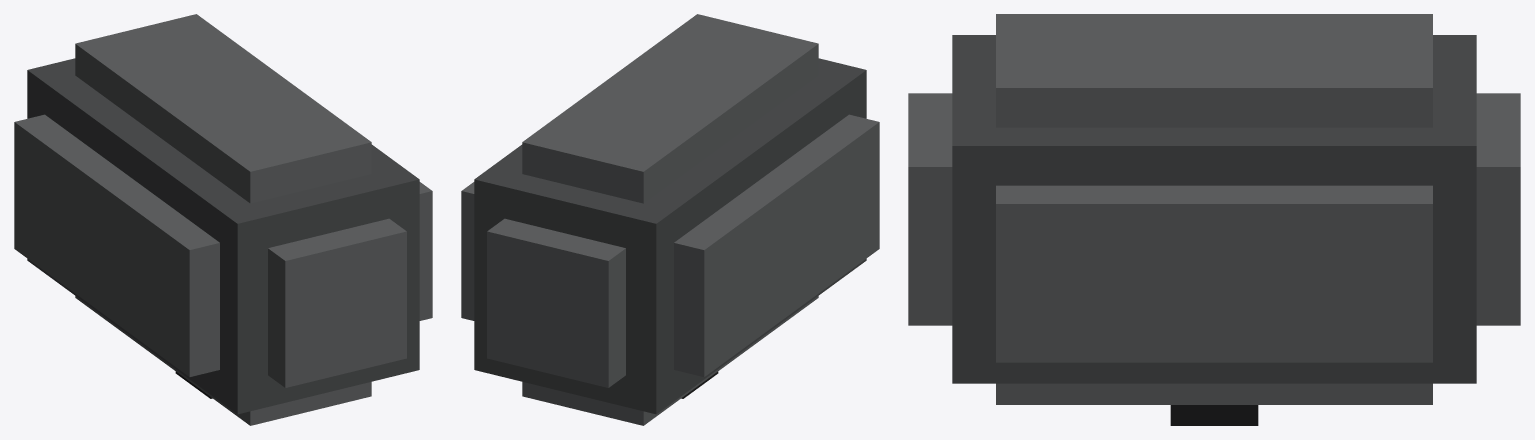
File: light_external_fuel_tank.obj
3 renders of one model, left to right at view 1: azimuth 30°, elevation 25°; view 2: azimuth 150°, elevation 25°; view 3: azimuth 270°, elevation 25°, orthographic. The views are drawn at different scales.
Parts seen in each view (by area): view 1: cube1, cube7, cube4, cube2, cube5, cube6; view 2: cube1, cube7, cube4, cube3, cube5, cube6; view 3: cube6, cube1, cube4, cube2, cube3, cube5, cube.
Part boxes in pixels (box(x1,y1,x2,y2)): cube1: box(27, 58, 419, 414); cube7: box(14, 114, 219, 376); cube4: box(75, 14, 371, 203); cube2: box(268, 218, 406, 387); cube5: box(75, 296, 371, 425); cube6: box(419, 182, 432, 320); cube1: box(474, 58, 866, 414); cube7: box(674, 114, 879, 376); cube4: box(522, 14, 818, 203); cube3: box(487, 218, 625, 387); cube5: box(522, 296, 818, 425); cube6: box(461, 182, 474, 320); cube6: box(996, 185, 1432, 362); cube1: box(952, 35, 1476, 383); cube4: box(996, 14, 1432, 127); cube2: box(908, 93, 952, 325); cube3: box(1476, 93, 1520, 325); cube5: box(996, 383, 1432, 404); cube: box(1170, 405, 1258, 425).
Size of the model in its own units: 0.5 by 0.5625 by 0.875.
